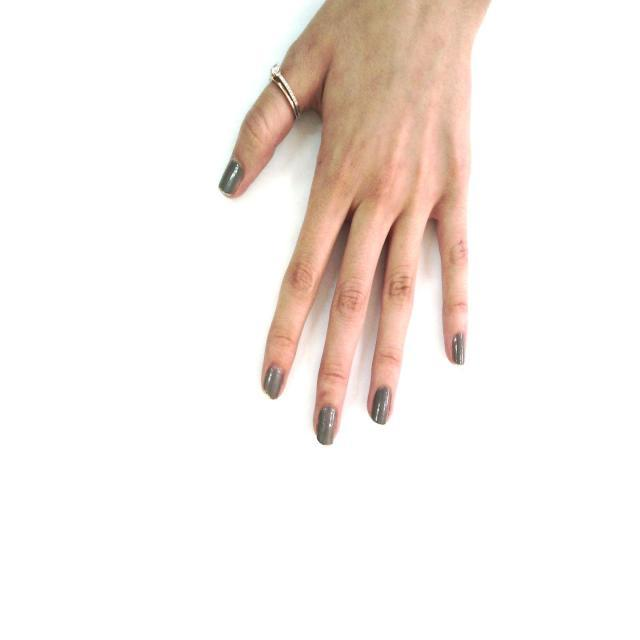Fingernail: (219, 159, 242, 193), (317, 406, 335, 446), (371, 386, 389, 424), (264, 365, 283, 397), (452, 334, 464, 364)
